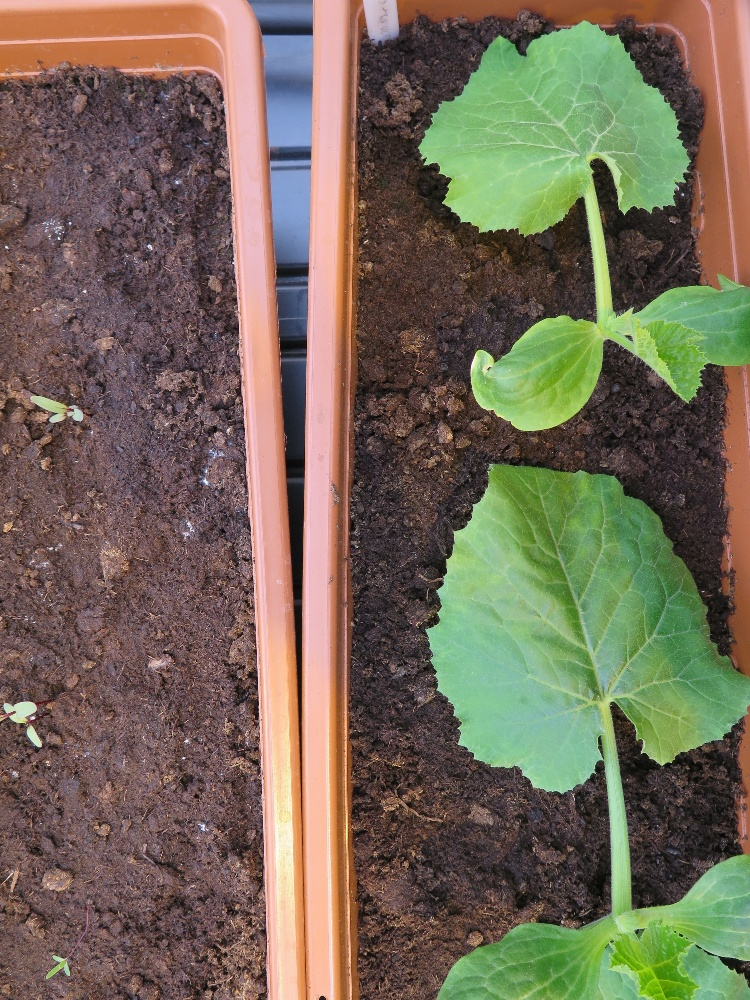crop: (414, 452, 750, 1000), (414, 18, 750, 449), (26, 391, 88, 428), (4, 703, 48, 750)
weed: (45, 950, 70, 981)
